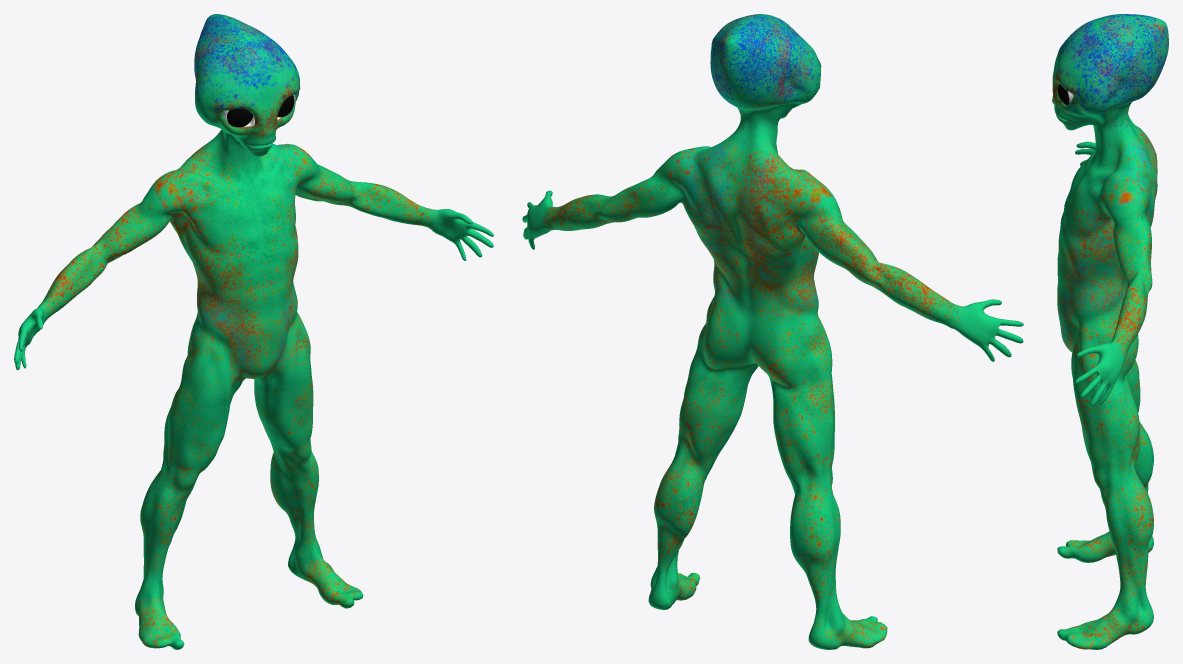
File: alien.glb
3 renders of one model, left to right at view 1: azimuth 30°, elevation 25°; view 2: azimuth 150°, elevation 25°; view 3: azimuth 270°, elevation 25°, orthographic. The views are drawn at different scales.
Visible parts, largest first — view 1: Group41073; view 2: Group41073; view 3: Group41073.
Boxes of the visible parts, x1=… form: Group41073: x1=14, y1=14, x2=493, y2=649; Group41073: x1=522, y1=14, x2=1023, y2=649; Group41073: x1=1052, y1=14, x2=1168, y2=649.
Size of the model in its own units: 5.63 by 6.59 by 1.19.
3 materials, 1 textured.
